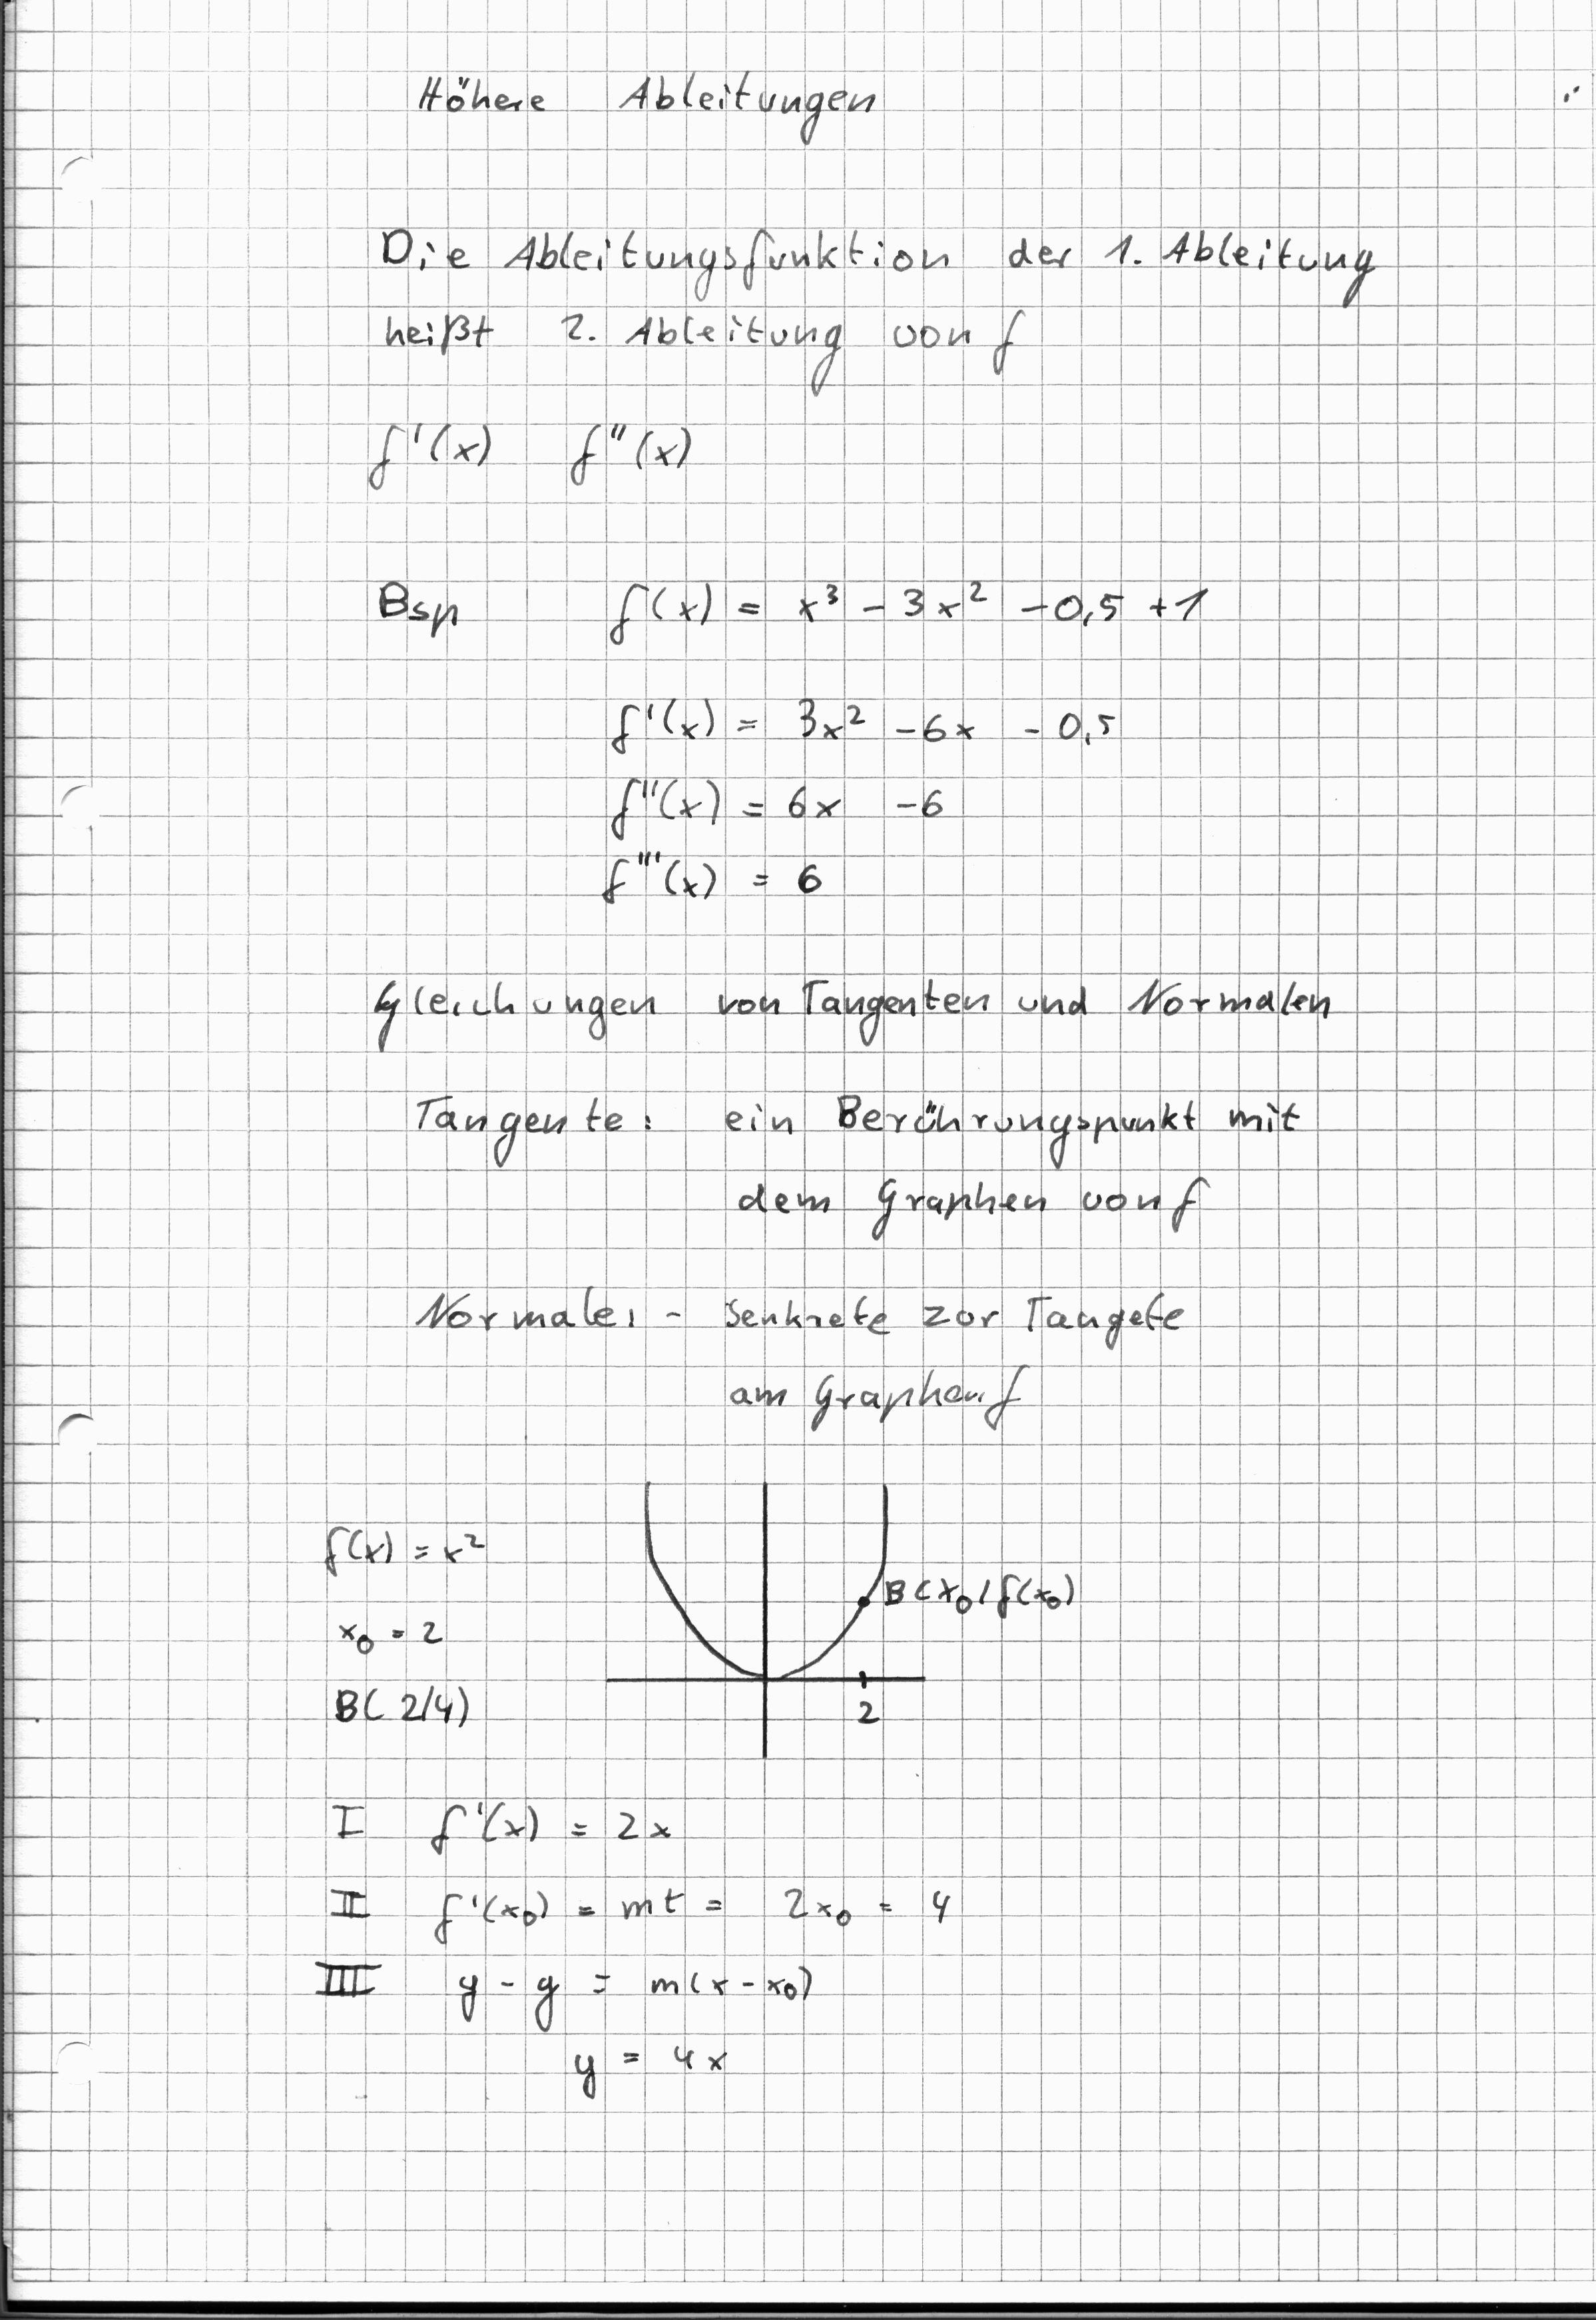word: (366, 236, 1395, 431), (419, 1785, 963, 2108), (587, 683, 1134, 928), (714, 1077, 1312, 1257), (716, 1278, 1192, 1434), (701, 956, 1340, 1060), (593, 561, 1236, 663), (301, 1504, 509, 1749), (602, 45, 908, 160), (356, 960, 683, 1069), (396, 1074, 678, 1183), (288, 1777, 411, 2019), (407, 1259, 692, 1351), (344, 391, 521, 509), (392, 47, 575, 145), (551, 400, 709, 501), (348, 547, 489, 653)
